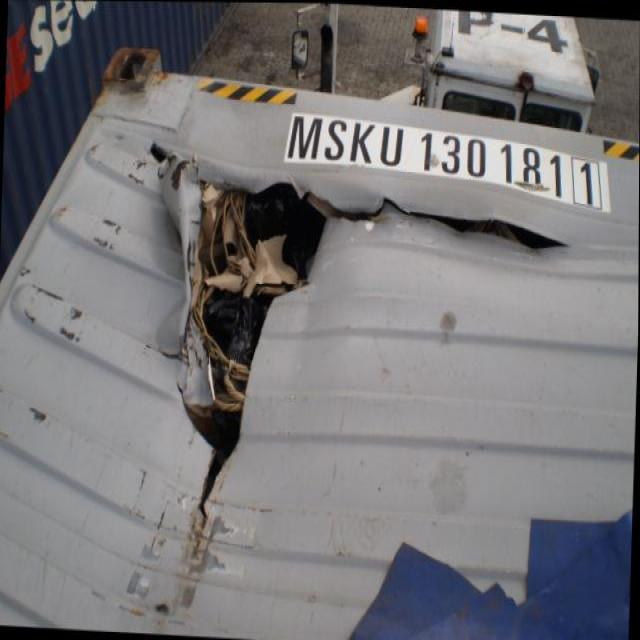hole: (148, 144, 330, 451), (329, 188, 577, 258), (193, 444, 240, 558)
